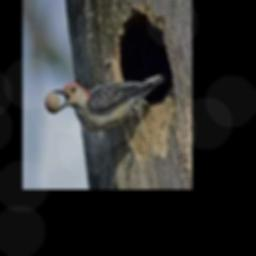Woodpecker: (50, 73, 164, 132)
